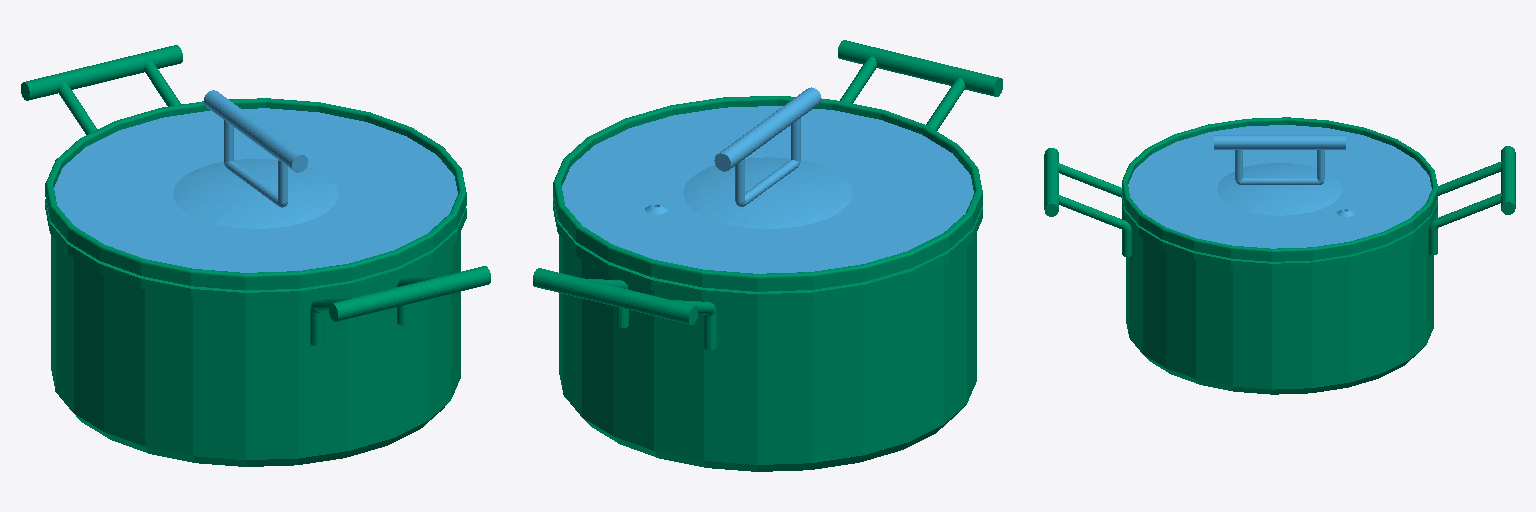
robot.urdf — partnet_11e7166d-8424-4edf-98cf-783b60539214:
<?xml version="1.0" ?>
<robot name="partnet_11e7166d-8424-4edf-98cf-783b60539214">
	<link name="base"/>
	<link name="link_0">
		<visual name="lid-1">
			<origin xyz="0 0 0"/>
			<geometry>
				<mesh filename="textured_objs/original-17.obj" scale="0.2 0.2 0.2"/>
			</geometry>
		</visual>
		<visual name="lid-1">
			<origin xyz="0 0 0"/>
			<geometry>
				<mesh filename="textured_objs/original-10.obj" scale="0.2 0.2 0.2"/>
			</geometry>
		</visual>
		<visual name="lid-1">
			<origin xyz="0 0 0"/>
			<geometry>
				<mesh filename="textured_objs/original-11.obj" scale="0.2 0.2 0.2"/>
			</geometry>
		</visual>
		<visual name="lid-1">
			<origin xyz="0 0 0"/>
			<geometry>
				<mesh filename="textured_objs/original-8.obj" scale="0.2 0.2 0.2"/>
			</geometry>
		</visual>
		<visual name="lid-1">
			<origin xyz="0 0 0"/>
			<geometry>
				<mesh filename="textured_objs/original-1.obj" scale="0.2 0.2 0.2"/>
			</geometry>
		</visual>
		<visual name="lid-1">
			<origin xyz="0 0 0"/>
			<geometry>
				<mesh filename="textured_objs/original-13.obj" scale="0.2 0.2 0.2"/>
			</geometry>
		</visual>
		<visual name="lid-1">
			<origin xyz="0 0 0"/>
			<geometry>
				<mesh filename="textured_objs/original-15.obj" scale="0.2 0.2 0.2"/>
			</geometry>
		</visual>
		<visual name="lid-1">
			<origin xyz="0 0 0"/>
			<geometry>
				<mesh filename="textured_objs/original-14.obj" scale="0.2 0.2 0.2"/>
			</geometry>
		</visual>
		<visual name="lid-1">
			<origin xyz="0 0 0"/>
			<geometry>
				<mesh filename="textured_objs/original-16.obj" scale="0.2 0.2 0.2"/>
			</geometry>
		</visual>
		<collision>
			<origin xyz="0 0 0"/>
			<geometry>
				<mesh filename="textured_objs/original-17.obj" scale="0.2 0.2 0.2"/>
			</geometry>
		</collision>
		<collision>
			<origin xyz="0 0 0"/>
			<geometry>
				<mesh filename="textured_objs/original-10.obj" scale="0.2 0.2 0.2"/>
			</geometry>
		</collision>
		<collision>
			<origin xyz="0 0 0"/>
			<geometry>
				<mesh filename="textured_objs/original-11.obj" scale="0.2 0.2 0.2"/>
			</geometry>
		</collision>
		<collision>
			<origin xyz="0 0 0"/>
			<geometry>
				<mesh filename="textured_objs/original-8.obj" scale="0.2 0.2 0.2"/>
			</geometry>
		</collision>
		<collision>
			<origin xyz="0 0 0"/>
			<geometry>
				<mesh filename="textured_objs/original-1.obj" scale="0.2 0.2 0.2"/>
			</geometry>
		</collision>
		<collision>
			<origin xyz="0 0 0"/>
			<geometry>
				<mesh filename="textured_objs/original-13.obj" scale="0.2 0.2 0.2"/>
			</geometry>
		</collision>
		<collision>
			<origin xyz="0 0 0"/>
			<geometry>
				<mesh filename="textured_objs/original-15.obj" scale="0.2 0.2 0.2"/>
			</geometry>
		</collision>
		<collision>
			<origin xyz="0 0 0"/>
			<geometry>
				<mesh filename="textured_objs/original-14.obj" scale="0.2 0.2 0.2"/>
			</geometry>
		</collision>
		<collision>
			<origin xyz="0 0 0"/>
			<geometry>
				<mesh filename="textured_objs/original-16.obj" scale="0.2 0.2 0.2"/>
			</geometry>
		</collision>
		<inertial>
			<mass value="1"/>
			<inertia ixx="0.4" ixy="0.0" ixz="0.0" iyy="0.4" iyz="0.0" izz="0.2"/>
		</inertial>
	</link>
	<joint name="joint_0" type="prismatic">
		<origin xyz="0 0 0"/>
		<axis xyz="0 1 0"/>
		<child link="link_0"/>
		<parent link="link_1"/>
		<limit lower="0" upper="0.06"/>
	</joint>
	<link name="link_1">
		<visual name="base_body-2">
			<origin xyz="0 0 0"/>
			<geometry>
				<mesh filename="textured_objs/original-29.obj" scale="0.2 0.2 0.2"/>

			</geometry>
		</visual>
		<visual name="base_body-2">
			<origin xyz="0 0 0"/>
			<geometry>
				<mesh filename="textured_objs/original-21.obj" scale="0.2 0.2 0.2"/>
			</geometry>
		</visual>
		<visual name="base_body-2">
			<origin xyz="0 0 0"/>
			<geometry>
				<mesh filename="textured_objs/original-30.obj" scale="0.2 0.2 0.2"/>
			</geometry>
		</visual>
		<visual name="base_body-2">
			<origin xyz="0 0 0"/>
			<geometry>
				<mesh filename="textured_objs/original-22.obj" scale="0.2 0.2 0.2"/>
			</geometry>
		</visual>
		<visual name="base_body-2">
			<origin xyz="0 0 0"/>
			<geometry>
				<mesh filename="textured_objs/original-26.obj" scale="0.2 0.2 0.2"/>
			</geometry>
		</visual>
		<visual name="base_body-2">
			<origin xyz="0 0 0"/>
			<geometry>
				<mesh filename="textured_objs/original-5.obj" scale="0.2 0.2 0.2"/>
			</geometry>
		</visual>
		<visual name="base_body-2">
			<origin xyz="0 0 0"/>
			<geometry>
				<mesh filename="textured_objs/original-27.obj" scale="0.2 0.2 0.2"/>
			</geometry>
		</visual>
		<visual name="base_body-2">
			<origin xyz="0 0 0"/>
			<geometry>
				<mesh filename="textured_objs/original-6.obj" scale="0.2 0.2 0.2"/>
			</geometry>
		</visual>
		<visual name="base_body-2">
			<origin xyz="0 0 0"/>
			<geometry>
				<mesh filename="textured_objs/original-31.obj" scale="0.2 0.2 0.2"/>
			</geometry>
		</visual>
		<visual name="base_body-2">
			<origin xyz="0 0 0"/>
			<geometry>
				<mesh filename="textured_objs/original-23.obj" scale="0.2 0.2 0.2"/>
			</geometry>
		</visual>
		<visual name="base_body-2">
			<origin xyz="0 0 0"/>
			<geometry>
				<mesh filename="textured_objs/original-25.obj" scale="0.2 0.2 0.2"/>
			</geometry>
		</visual>
		<visual name="base_body-2">
			<origin xyz="0 0 0"/>
			<geometry>
				<mesh filename="textured_objs/original-7.obj" scale="0.2 0.2 0.2"/>
			</geometry>
		</visual>
		<visual name="base_body-2">
			<origin xyz="0 0 0"/>
			<geometry>
				<mesh filename="textured_objs/original-19.obj" scale="0.2 0.2 0.2"/>
			</geometry>
		</visual>
		<collision>
			<origin xyz="0 0 0"/>
			<geometry>
				<mesh filename="textured_objs/original-29.obj" scale="0.2 0.2 0.2"/>
			</geometry>
		</collision>
		<collision>
			<origin xyz="0 0 0"/>
			<geometry>
				<mesh filename="textured_objs/original-21.obj" scale="0.2 0.2 0.2"/>
			</geometry>
		</collision>
		<collision>
			<origin xyz="0 0 0"/>
			<geometry>
				<mesh filename="textured_objs/original-30.obj" scale="0.2 0.2 0.2"/>
			</geometry>
		</collision>
		<collision>
			<origin xyz="0 0 0"/>
			<geometry>
				<mesh filename="textured_objs/original-22.obj" scale="0.2 0.2 0.2"/>
			</geometry>
		</collision>
		<collision>
			<origin xyz="0 0 0"/>
			<geometry>
				<mesh filename="textured_objs/original-26.obj" scale="0.2 0.2 0.2"/>
			</geometry>
		</collision>
		<collision>
			<origin xyz="0 0 0"/>
			<geometry>
				<mesh filename="textured_objs/original-5.obj" scale="0.2 0.2 0.2"/>
			</geometry>
		</collision>
		<collision>
			<origin xyz="0 0 0"/>
			<geometry>
				<mesh filename="textured_objs/original-27.obj" scale="0.2 0.2 0.2"/>
			</geometry>
		</collision>
		<collision>
			<origin xyz="0 0 0"/>
			<geometry>
				<mesh filename="textured_objs/original-6.obj" scale="0.2 0.2 0.2"/>
			</geometry>
		</collision>
		<collision>
			<origin xyz="0 0 0"/>
			<geometry>
				<mesh filename="textured_objs/original-31.obj" scale="0.2 0.2 0.2"/>
			</geometry>
		</collision>
		<collision>
			<origin xyz="0 0 0"/>
			<geometry>
				<mesh filename="textured_objs/original-23.obj" scale="0.2 0.2 0.2"/>
			</geometry>
		</collision>
		<collision>
			<origin xyz="0 0 0"/>
			<geometry>
				<mesh filename="textured_objs/original-25.obj" scale="0.2 0.2 0.2"/>
			</geometry>
		</collision>
		<collision>
			<origin xyz="0 0 0"/>
			<geometry>
				<mesh filename="textured_objs/original-7.obj" scale="0.2 0.2 0.2"/>
			</geometry>
		</collision>
		<collision>
			<origin xyz="0 0 0"/>
			<geometry>
				<mesh filename="textured_objs/original-19.obj" scale="0.2 0.2 0.2"/>
			</geometry>
		</collision>
		<inertial>
			<mass value="3"/>
			<inertia ixx="0.4" ixy="0.0" ixz="0.0" iyy="0.4" iyz="0.0" izz="0.2"/>
		</inertial>
	</link>
	<joint name="joint_1" type="fixed">
		<origin rpy="1.570796326794897 0 -1.570796326794897" xyz="0 0 0"/>
		<child link="link_1"/>
		<parent link="base"/>
	</joint>
</robot>

--- Facts derived from the render (not from the file) ---
3 views of the same robot in one strip: view 1: azimuth 30°, elevation 25°; view 2: azimuth 150°, elevation 25°; view 3: azimuth 270°, elevation 25° (orthographic).
Model partnet_11e7166d-8424-4edf-98cf-783b60539214 with 3 links and 2 joints (1 prismatic, 1 fixed), rooted at base, posed every joint at zero.
Visible links, largest first — view 1: link_1, link_0; view 2: link_1, link_0; view 3: link_1, link_0.
Boxes of the visible links, box(x1,y1,x2,y2) form: link_1: box(21, 45, 490, 466); link_0: box(54, 90, 457, 272); link_1: box(533, 40, 1002, 471); link_0: box(562, 87, 973, 273); link_1: box(1044, 117, 1515, 394); link_0: box(1128, 125, 1431, 248).
Size in the robot's own frame: 0.2433 by 0.3618 by 0.1668 metres.
22 mesh visuals loaded from 22 distinct referenced files (22 OBJ).
